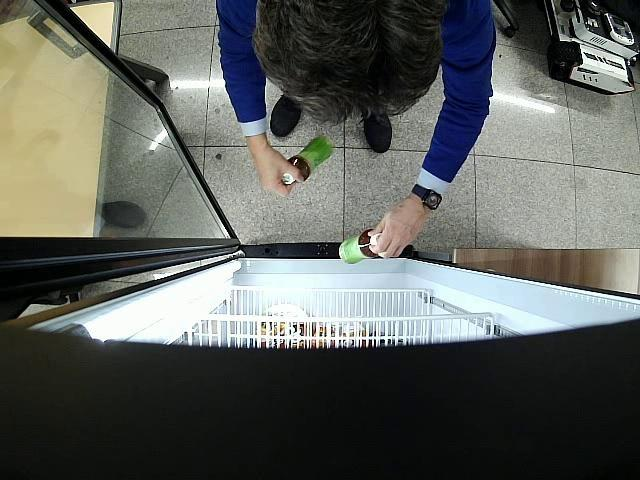19_17cha: (283, 134, 334, 184), (339, 231, 382, 264)
